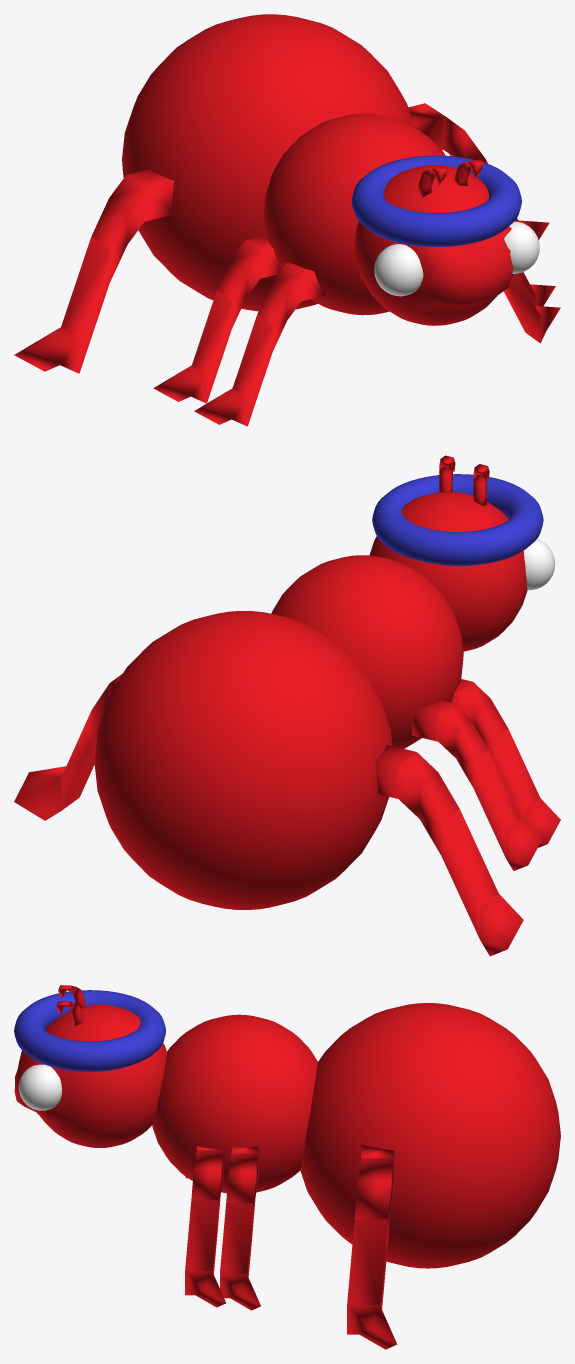
The model's file is base_fourmi_rouge_combattante.dae.
3 renders of one model, top to bottom at view 1: azimuth 30°, elevation 25°; view 2: azimuth 150°, elevation 25°; view 3: azimuth 270°, elevation 25°, orthographic. The views are drawn at different scales.
Parts seen in each view (by area): view 1: Cube_003, Torus; view 2: Cube_003, Torus; view 3: Cube_003, Torus.
Boxes of the visible parts, x1,y1,x2,y2 form: Cube_003: (14, 14, 560, 426); Torus: (351, 155, 521, 246); Cube_003: (14, 455, 560, 956); Torus: (372, 474, 543, 566); Cube_003: (14, 985, 560, 1349); Torus: (14, 990, 165, 1071).
Size of the model in its own units: 2.99 by 3.13 by 1.67.
